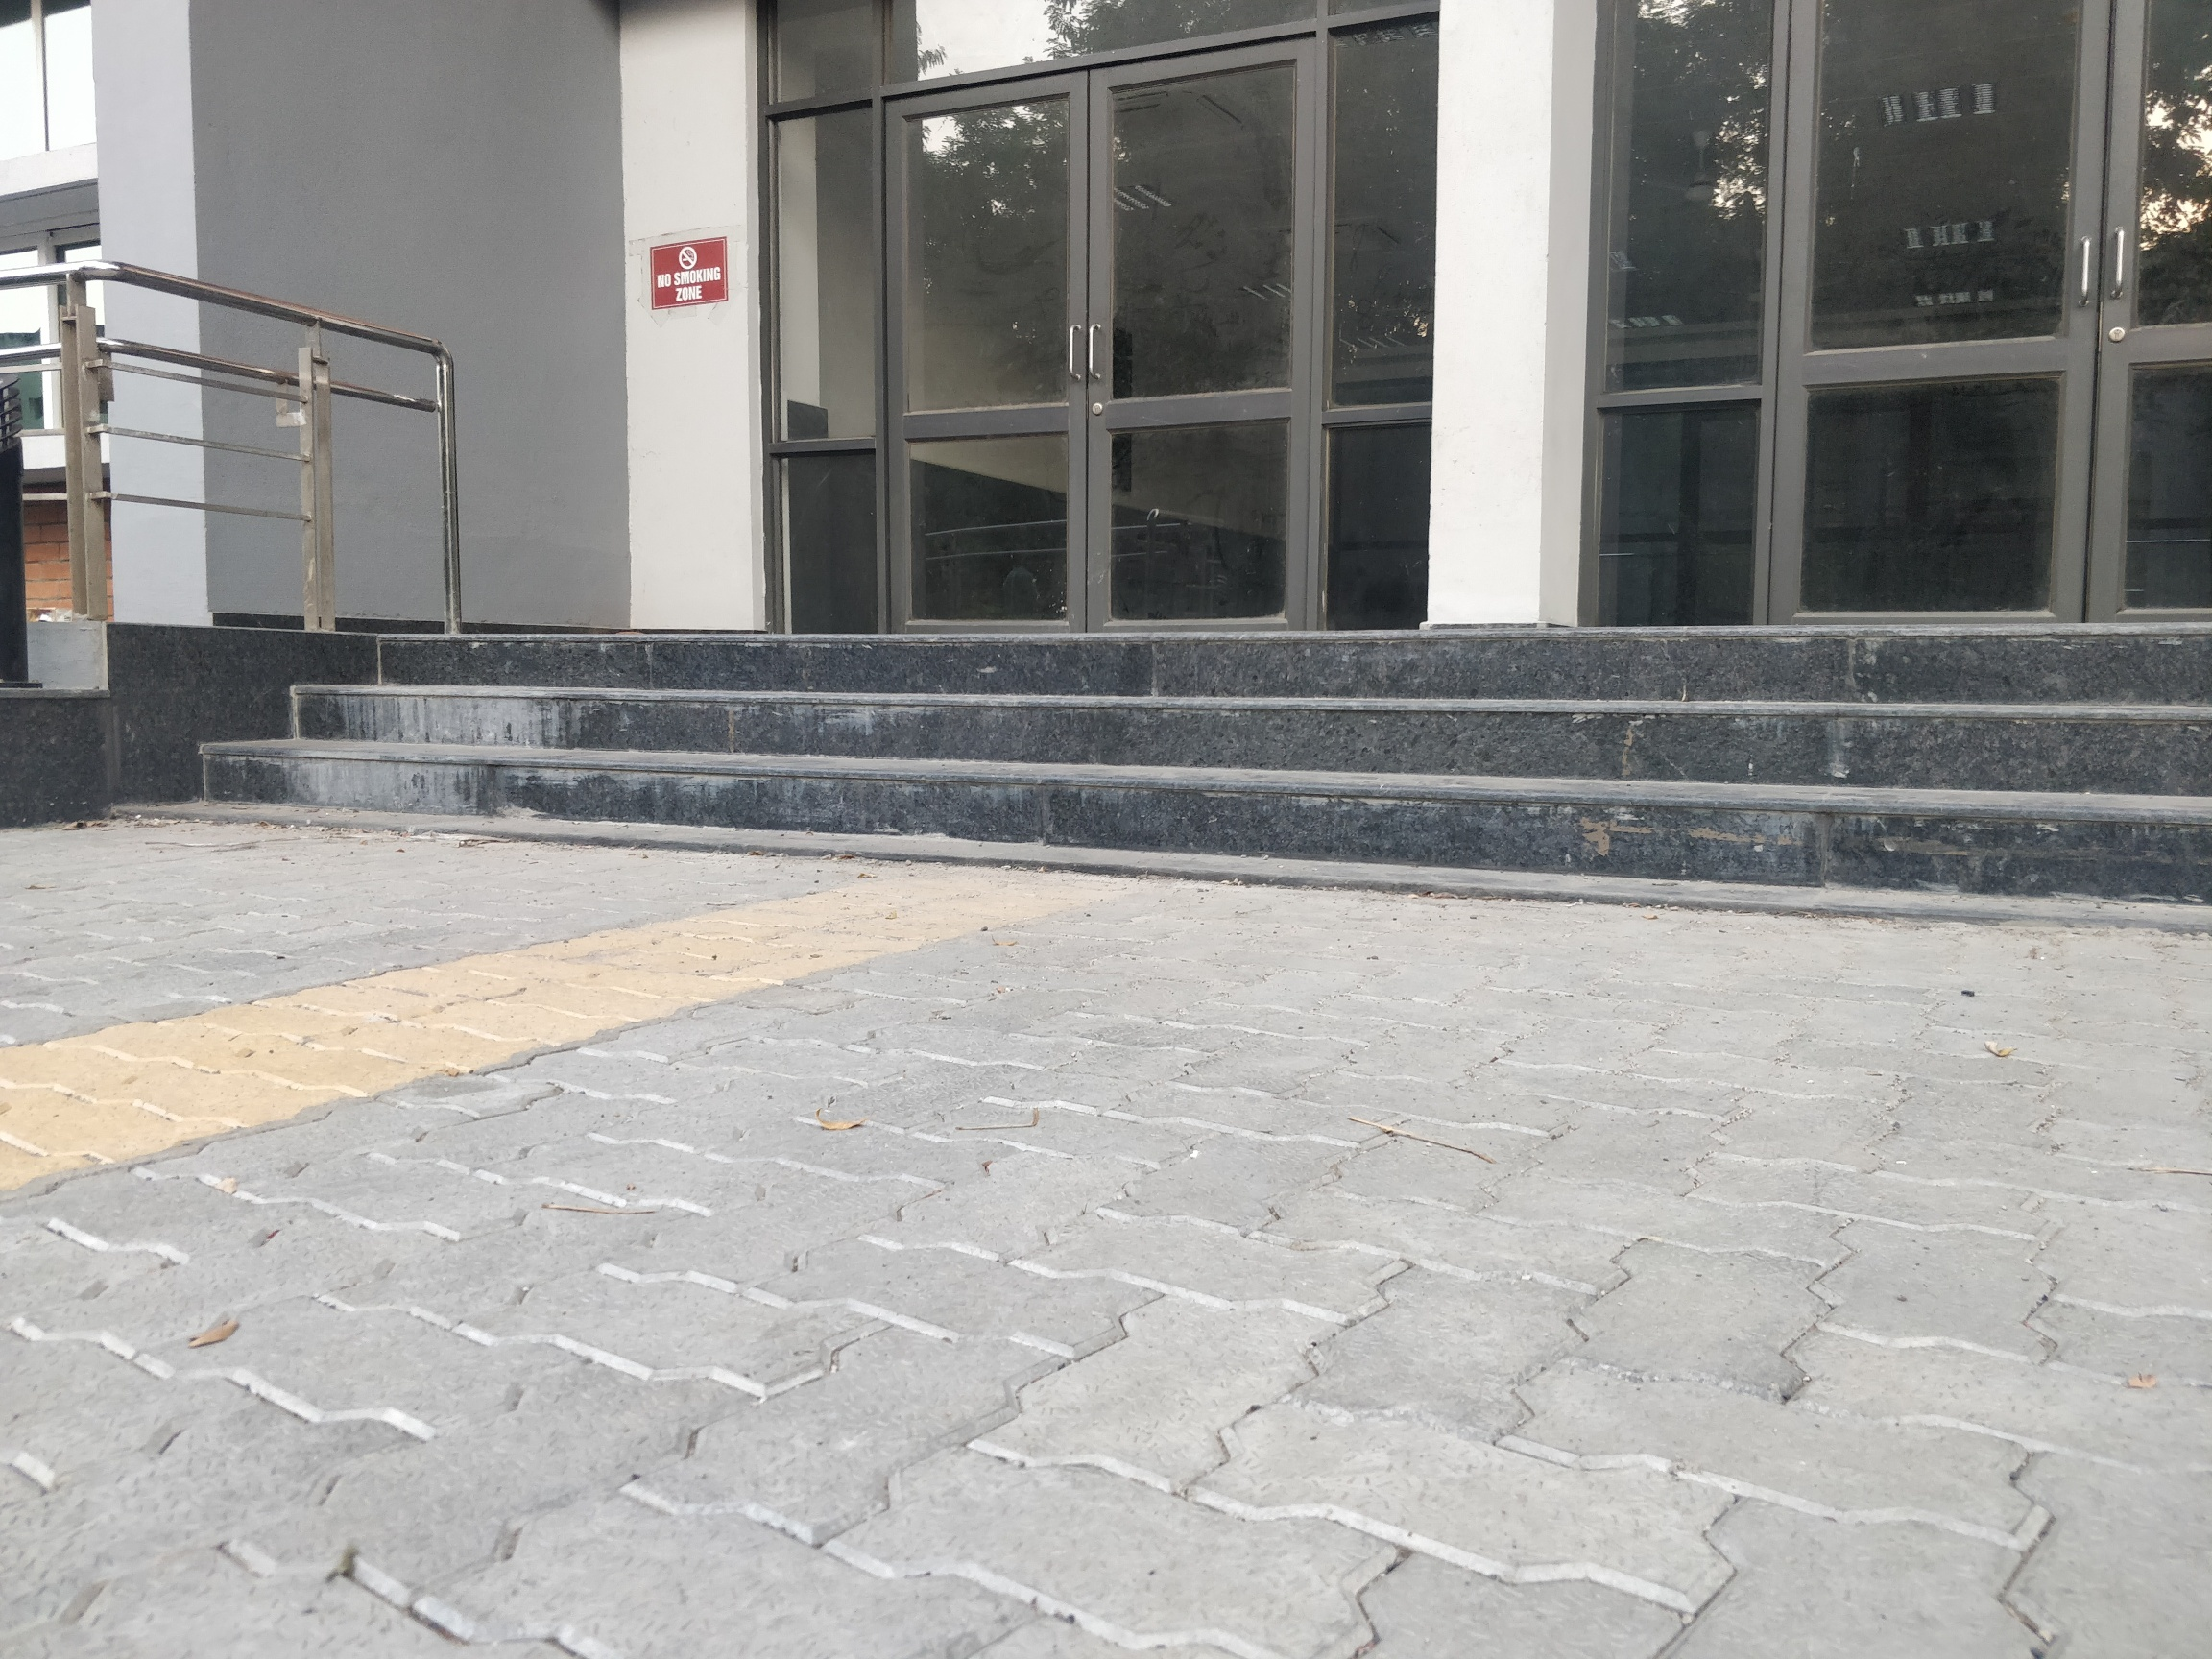stairs_up: (169, 606, 2202, 882)
